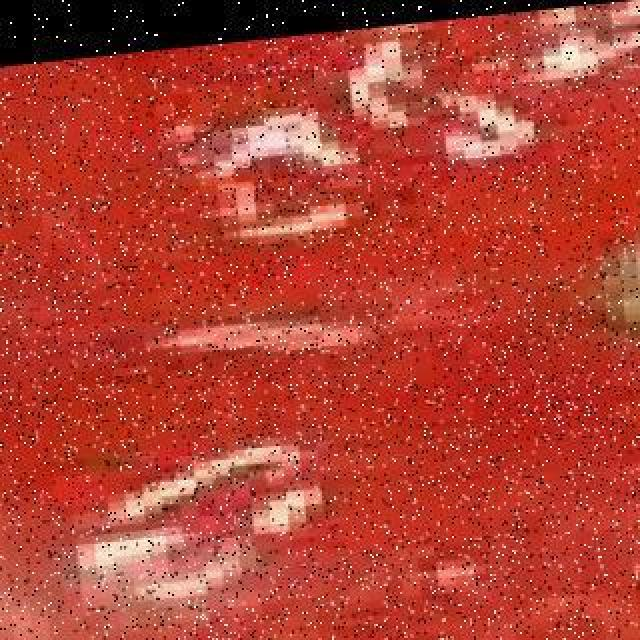calculus: (554, 102, 640, 486), (584, 432, 640, 640)
